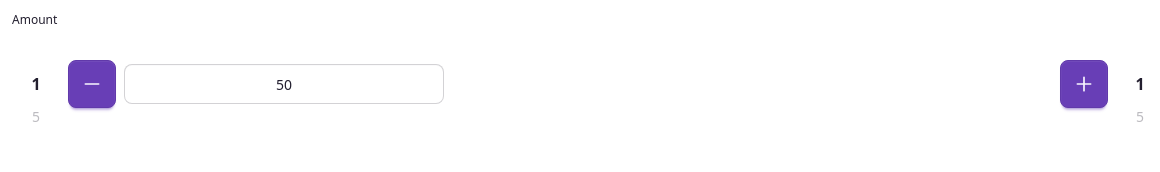
Test: NumberStepper › allows multi-digit entry without premature clamping
Note: Type digits one by one to test multi-digit entry
Replace the text in the number field with "2": point(284, 84) [124,64,444,104]
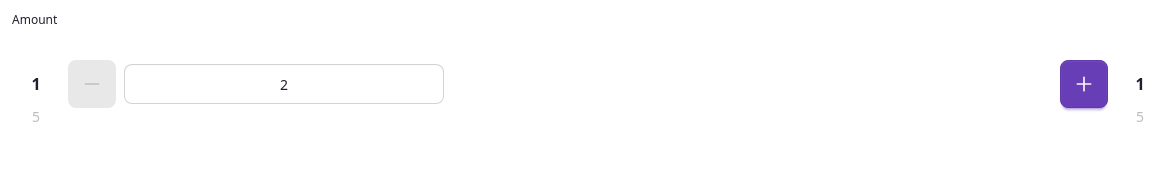
Replace the text in the number field with "25": point(284, 84) [124,64,444,104]
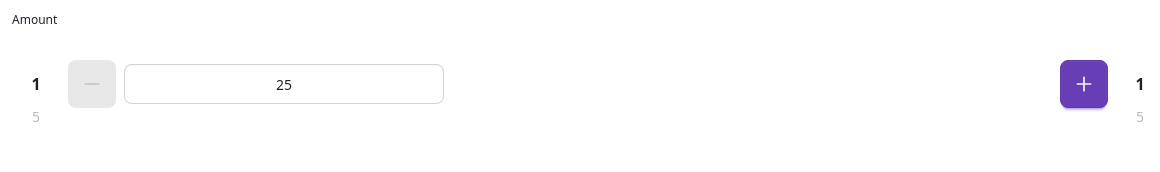
Replace the text in the number field with "250": point(284, 84) [124,64,444,104]
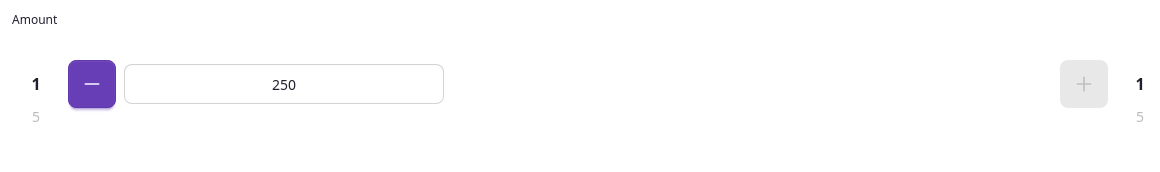
Note: Only clamp on blur
Leave the number field, box [124,64,444,104]
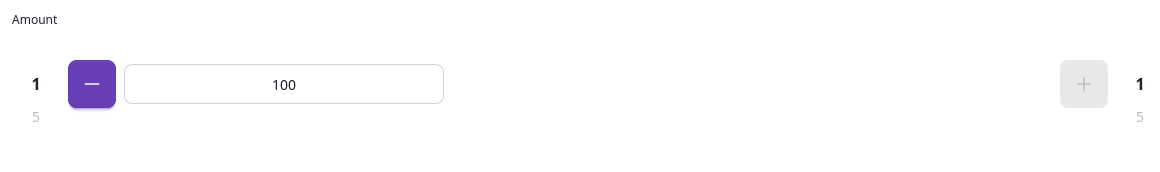
expect the number field holds "100": met, box [124,64,444,104]
